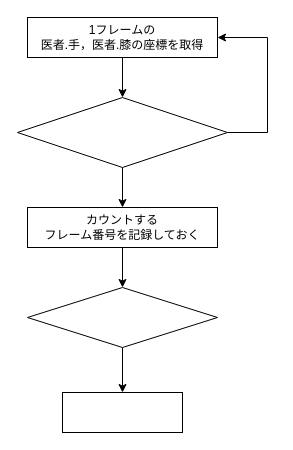
Image size: 293x450. Some labels were removed from this diagram. Each missing label, with the centre of its shape:
"カウントが2秒以上" goes at point (122, 317).
"医者.手と医者.膝の 距離が閾値以下か？" goes at point (122, 132).
